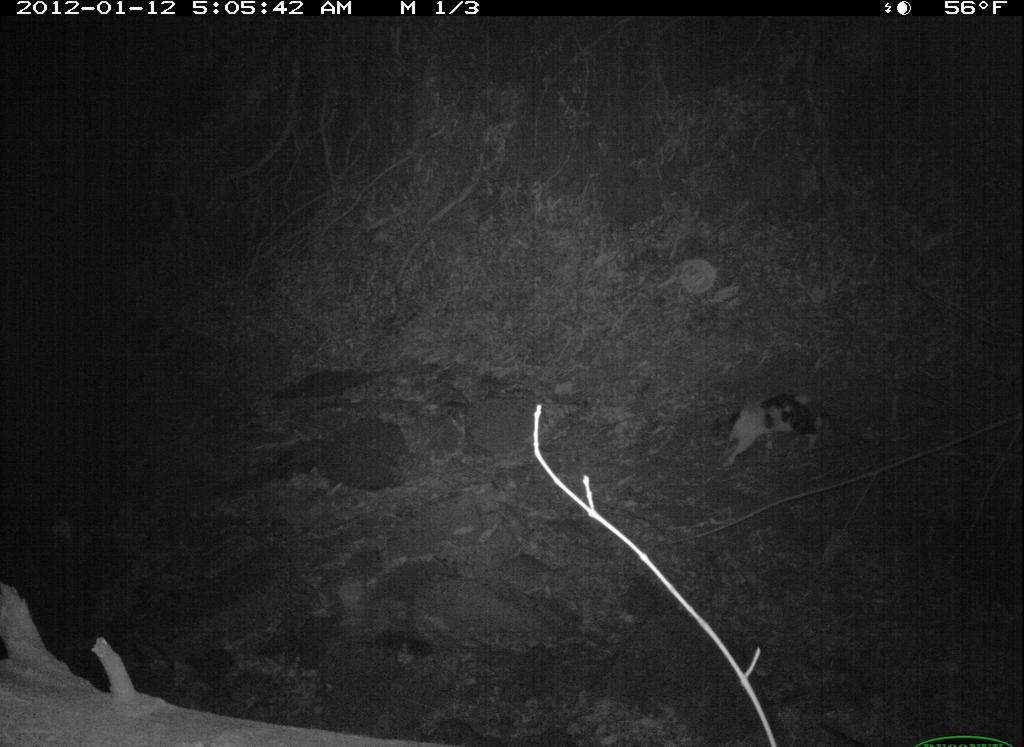cat: (708, 390, 846, 472)
